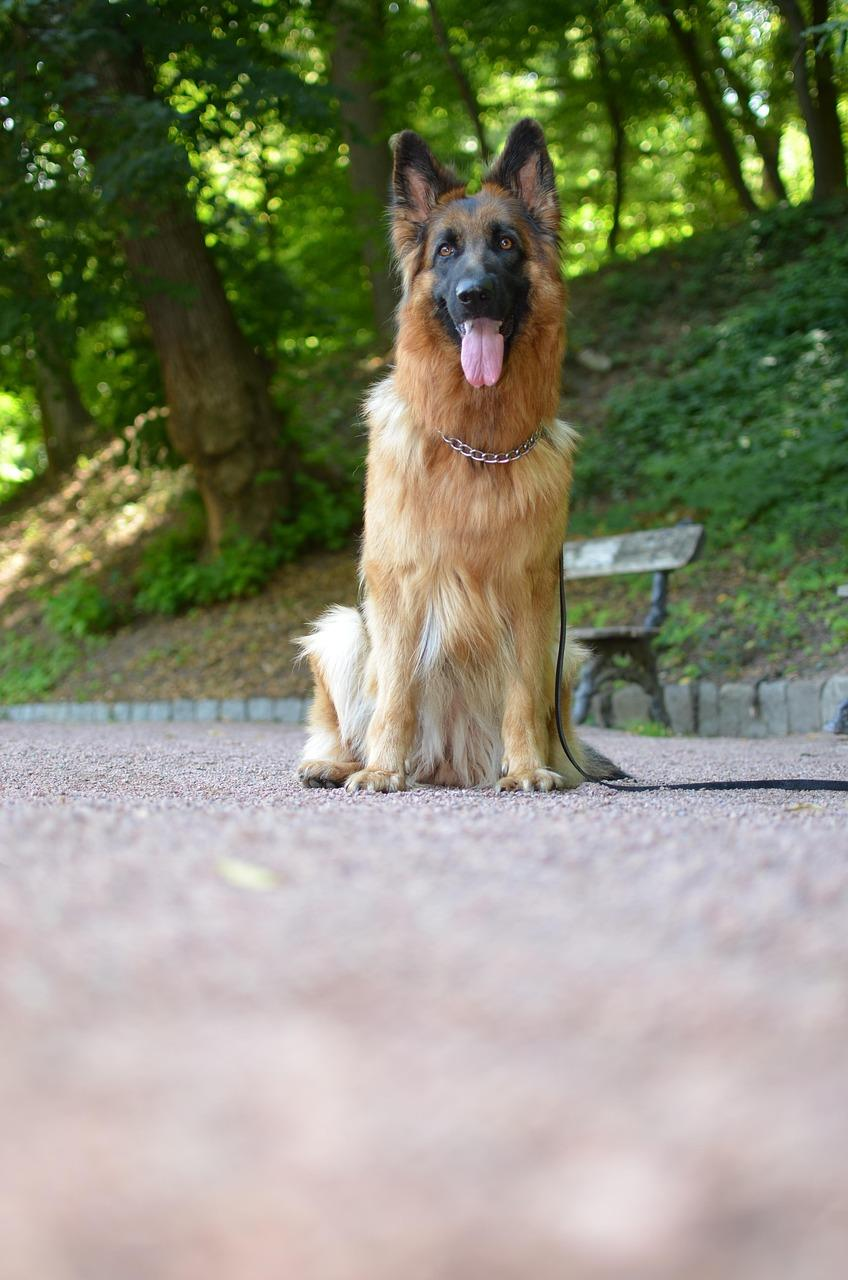german_shepherd: (384, 122, 581, 409)
